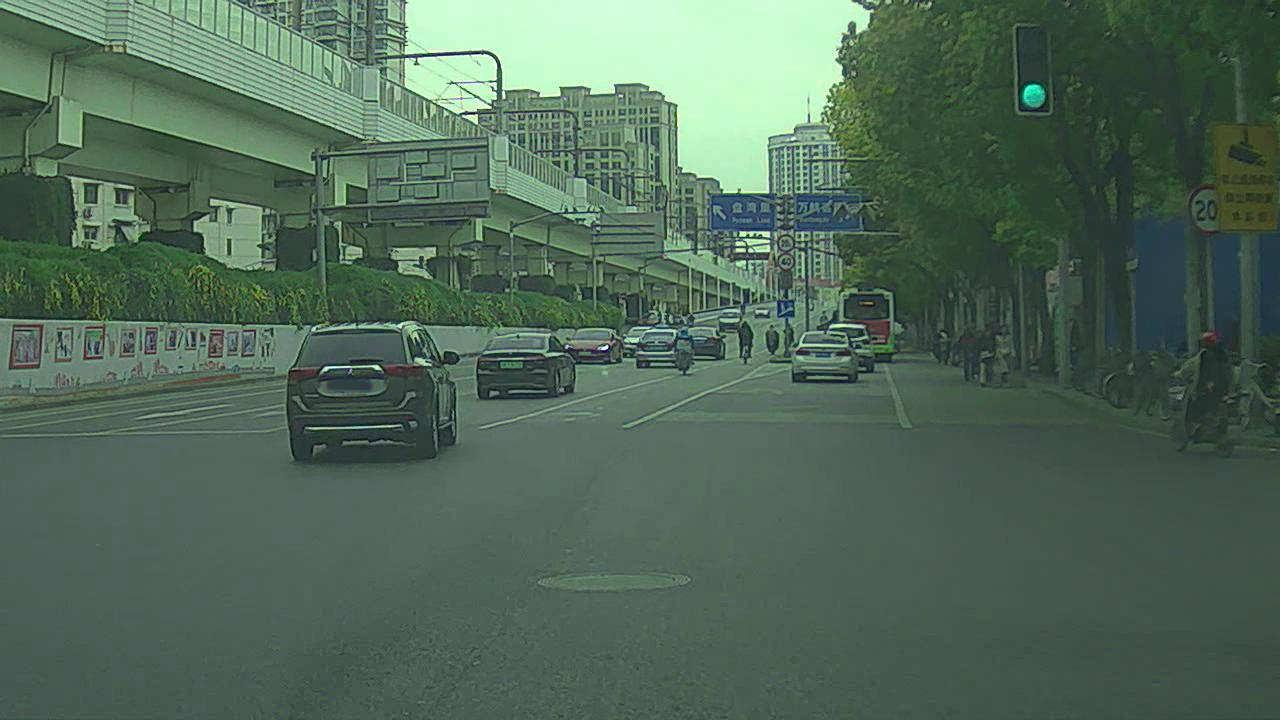traffic_light: (1012, 27, 1056, 119)
